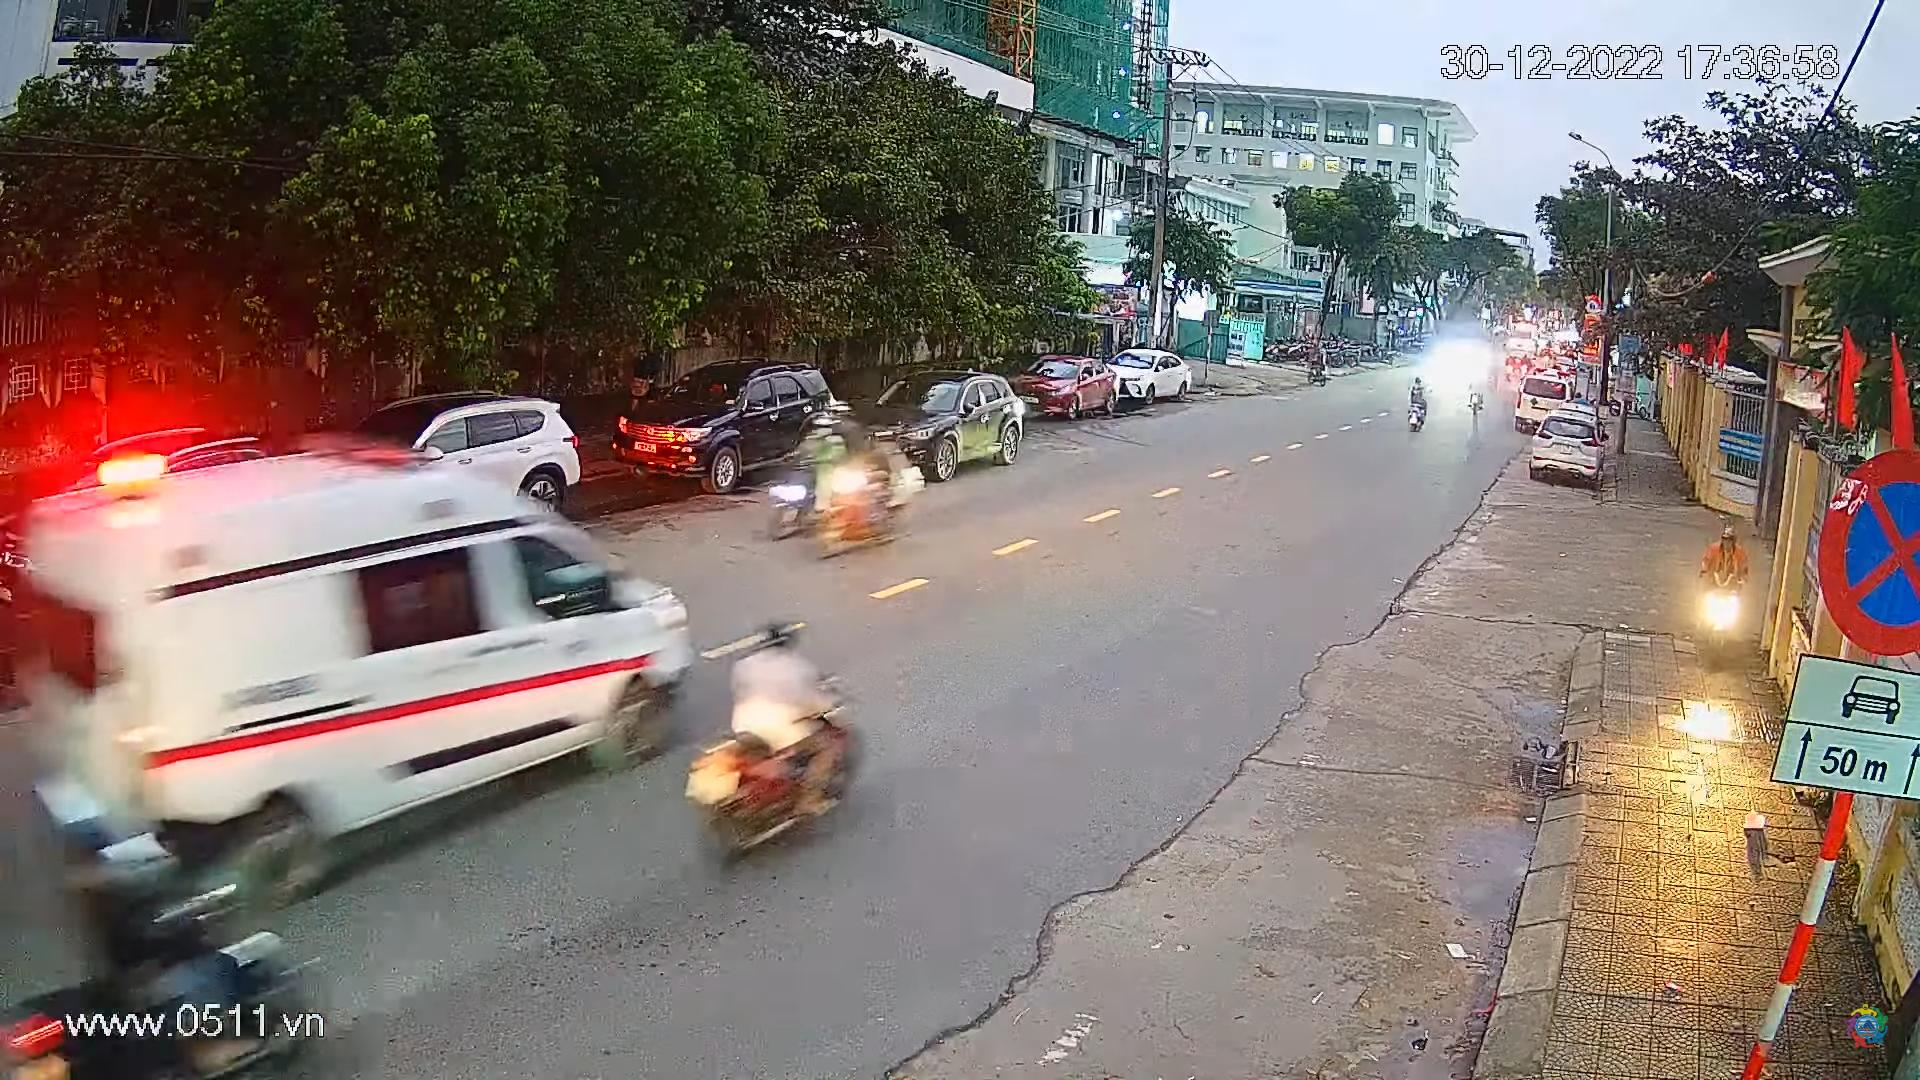ambulance: (22, 444, 688, 935)
